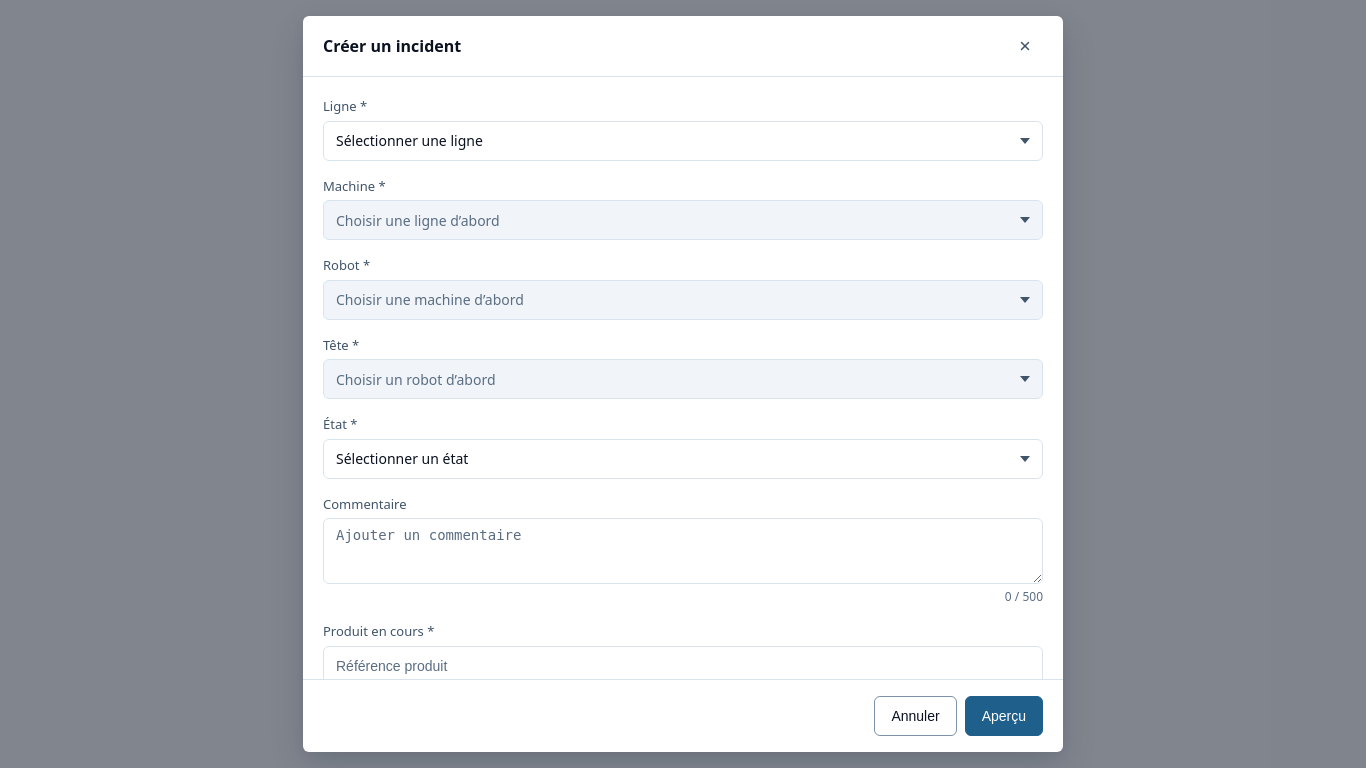
Test: CreateIncidentModal – isDirty › isDirty est vrai quand un état est sélectionné
Click the dropdown labelled "état".
click(402, 458)  # box [323,438,1043,478]
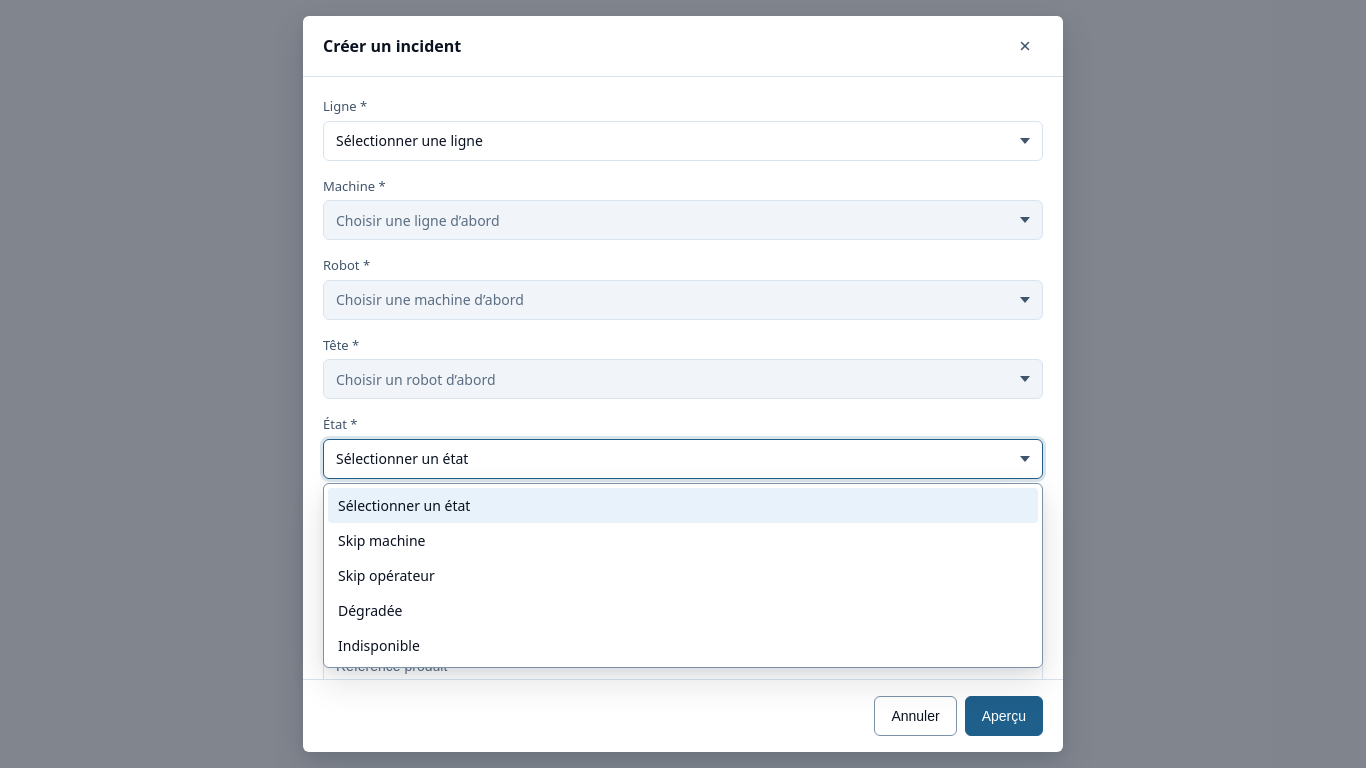
Click the option "Dégradée".
click(370, 610)  # box [328,592,1038,628]
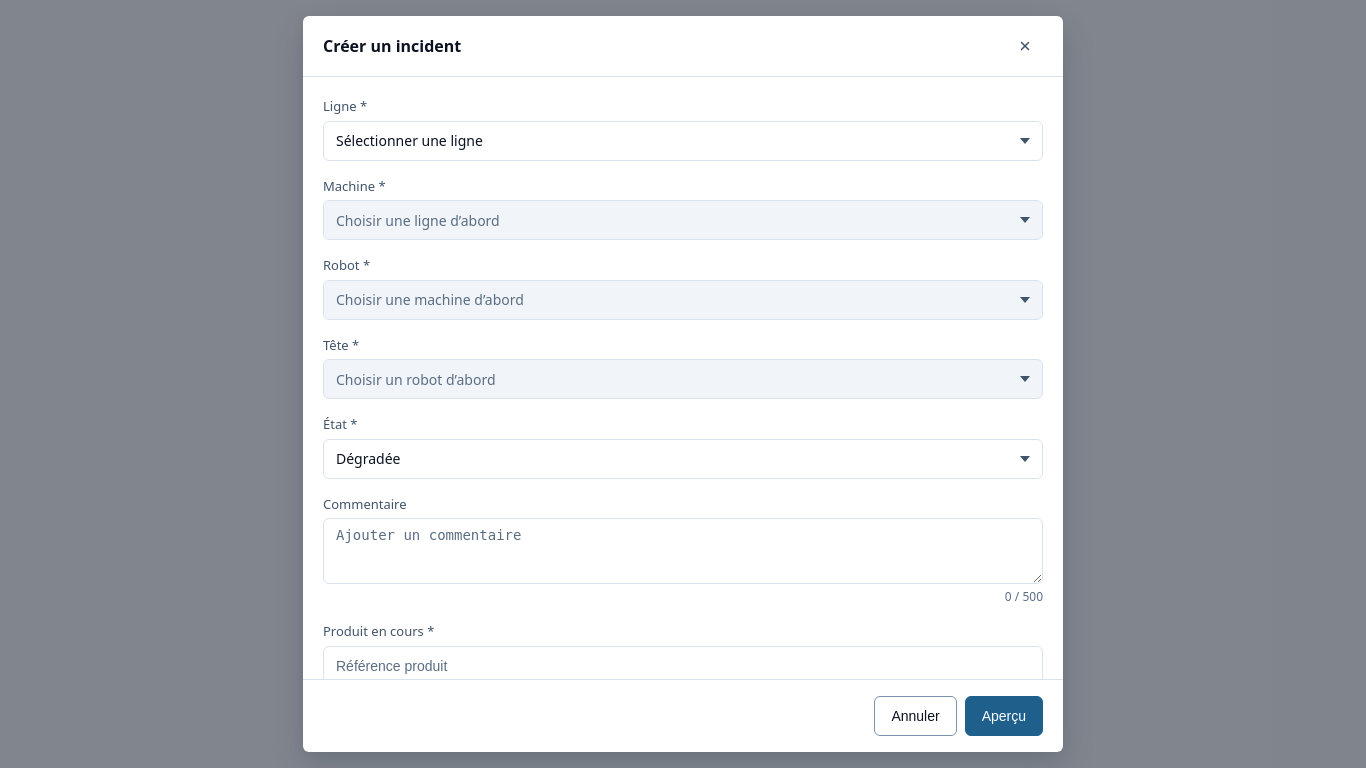
Click the button named "Fermer".
click(1025, 46)  # box [1007,32,1043,60]
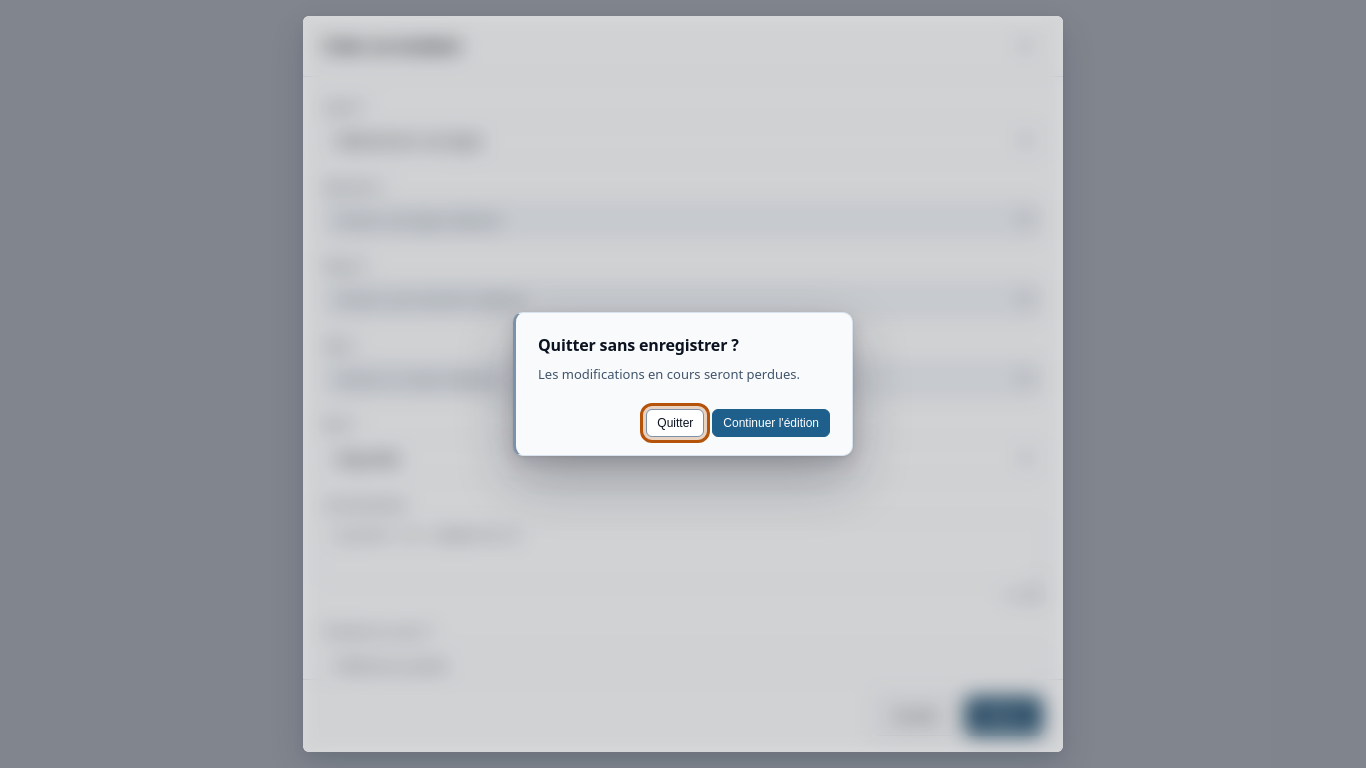
Expected: the text "Quitter sans enregistrer ?" is shown, [538,334,739,356]
